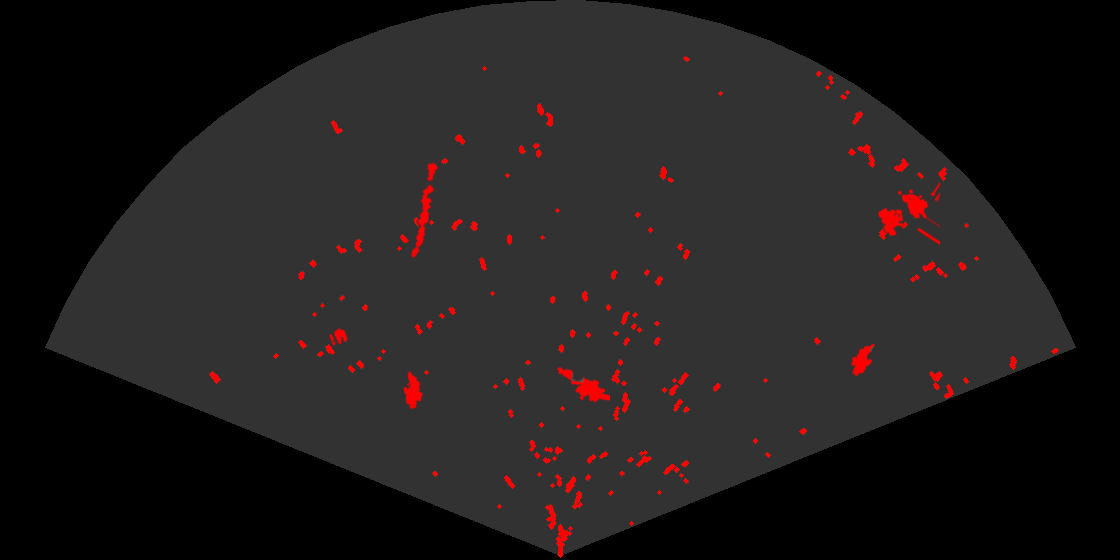AUV: (849, 342, 877, 378), (402, 369, 425, 411)
ball: (327, 327, 350, 347)
cage: (876, 180, 940, 247)
chain: (409, 160, 440, 260)
frogman: (555, 366, 610, 404)
